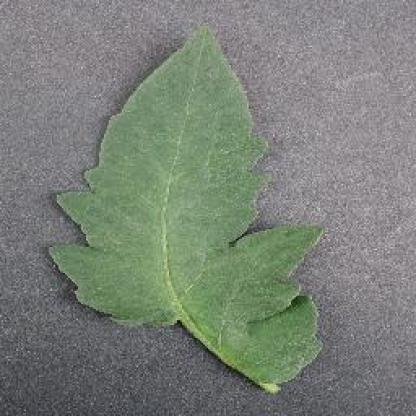good leaf: (75, 31, 298, 354)
